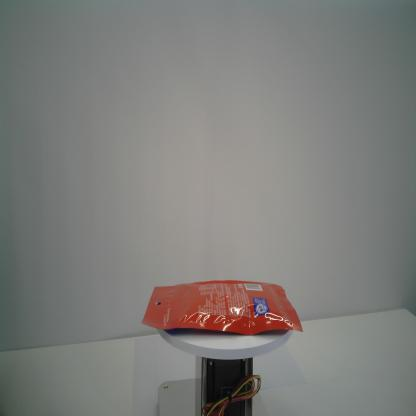Dried Fruit: (138, 279, 302, 337)
